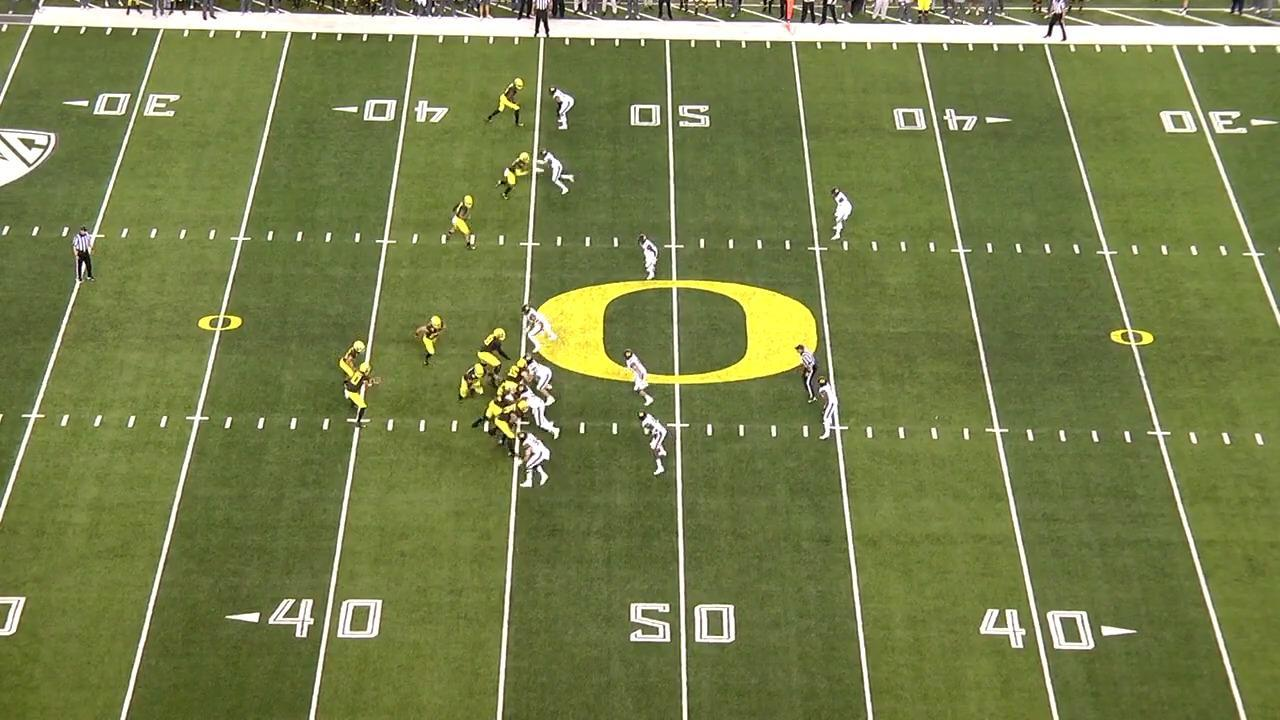player: (519, 385, 564, 441), (344, 362, 382, 427), (483, 76, 527, 131), (636, 411, 671, 479), (478, 380, 521, 434), (490, 399, 527, 461), (443, 194, 482, 252), (621, 349, 657, 410), (536, 148, 579, 198), (522, 304, 563, 356), (522, 430, 556, 491), (339, 338, 370, 401), (478, 327, 513, 382), (415, 313, 448, 370), (500, 150, 537, 199), (523, 353, 556, 406), (827, 185, 857, 240), (634, 232, 660, 287), (817, 376, 839, 441), (549, 84, 577, 133), (459, 363, 485, 401), (505, 358, 527, 390)
ref: (796, 342, 825, 406), (71, 225, 98, 285), (1043, 0, 1071, 42), (532, 0, 557, 36)
